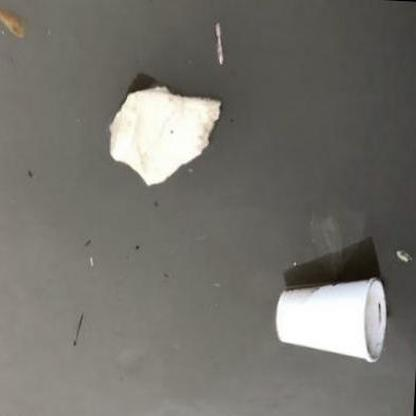foam: (107, 85, 221, 187)
